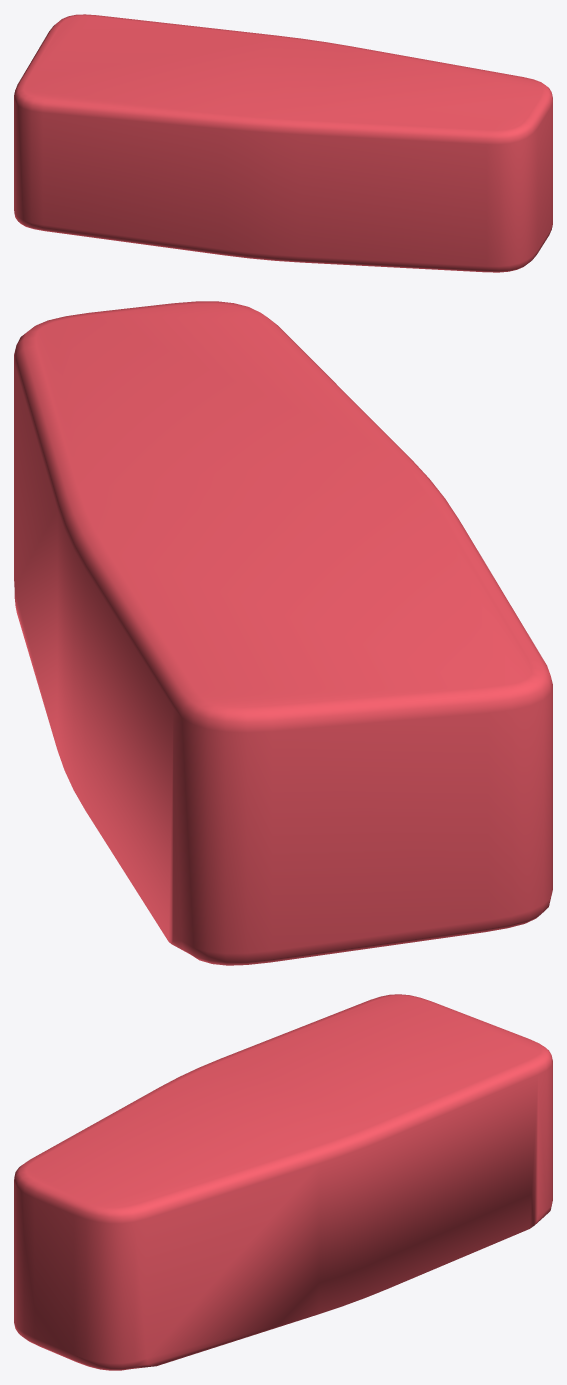
Rendered from LeftPaddle.fbx.
3 renders of one model, top to bottom at view 1: azimuth 30°, elevation 25°; view 2: azimuth 150°, elevation 25°; view 3: azimuth 270°, elevation 25°, orthographic. The views are drawn at different scales.
Parts seen in each view (by area): view 1: LeftPaddle; view 2: LeftPaddle; view 3: LeftPaddle.
Boxes of the visible parts, box(x1,y1,x2,y2) form: LeftPaddle: box(14, 14, 552, 272); LeftPaddle: box(14, 301, 552, 965); LeftPaddle: box(14, 994, 552, 1370).
Bounding box in the file's own units: 150 × 150 × 49.6.
Materials: 1 (1 with a texture image).
